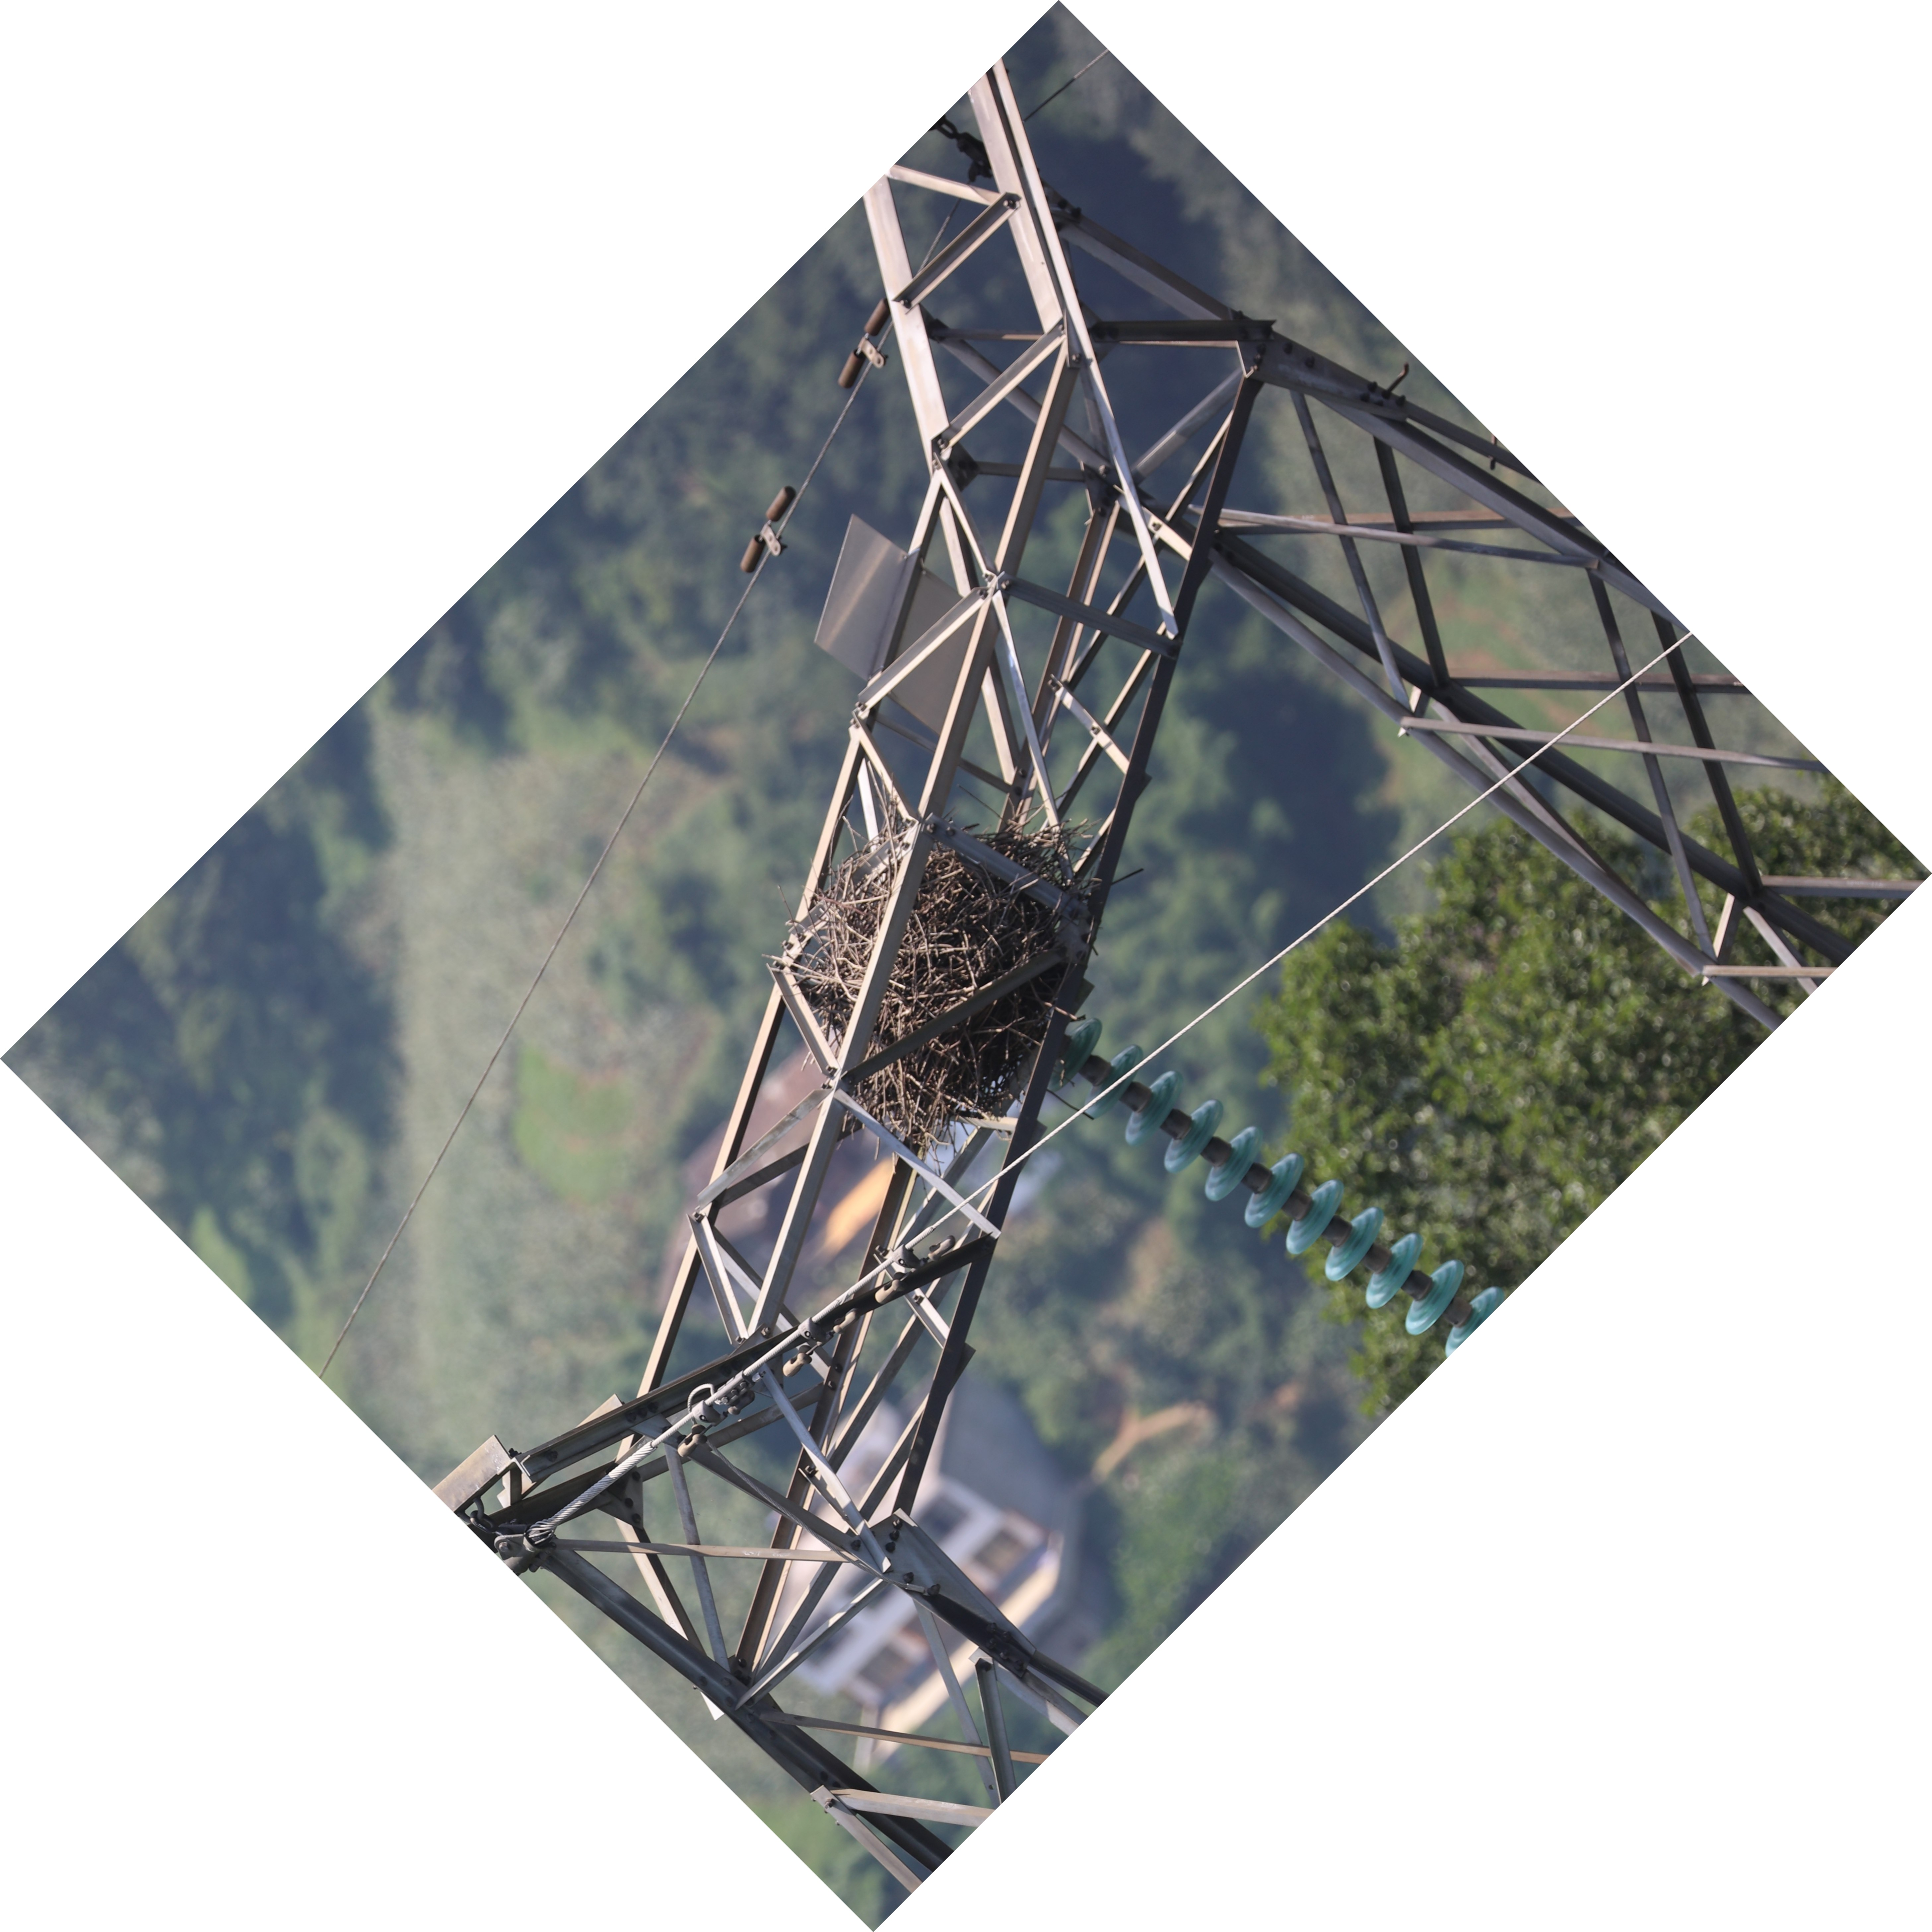niaowo: (768, 801, 1106, 1132)
